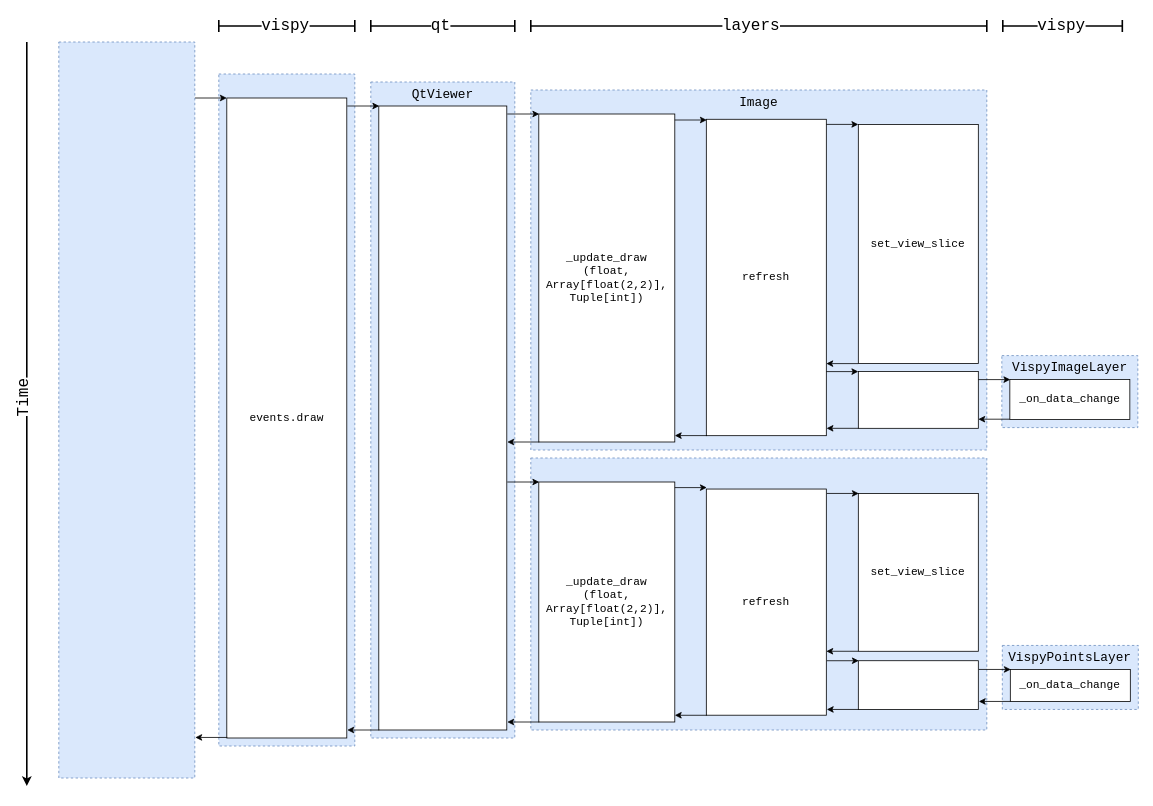
Image size: 1153x806. Some labels were removed from this diagram. Each missing label, with the box of its shape:
events. set_data: (858, 371, 978, 428)
events.set_data: (858, 660, 978, 709)
on_draw: (378, 105, 507, 730)
Points: (530, 457, 987, 730)
Qt event loop: (58, 41, 195, 778)
VispyCanvas: (218, 73, 355, 746)
